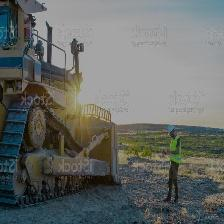Person: (163, 123, 183, 203)
helmet: (168, 123, 174, 134)
vest: (167, 135, 182, 166)
